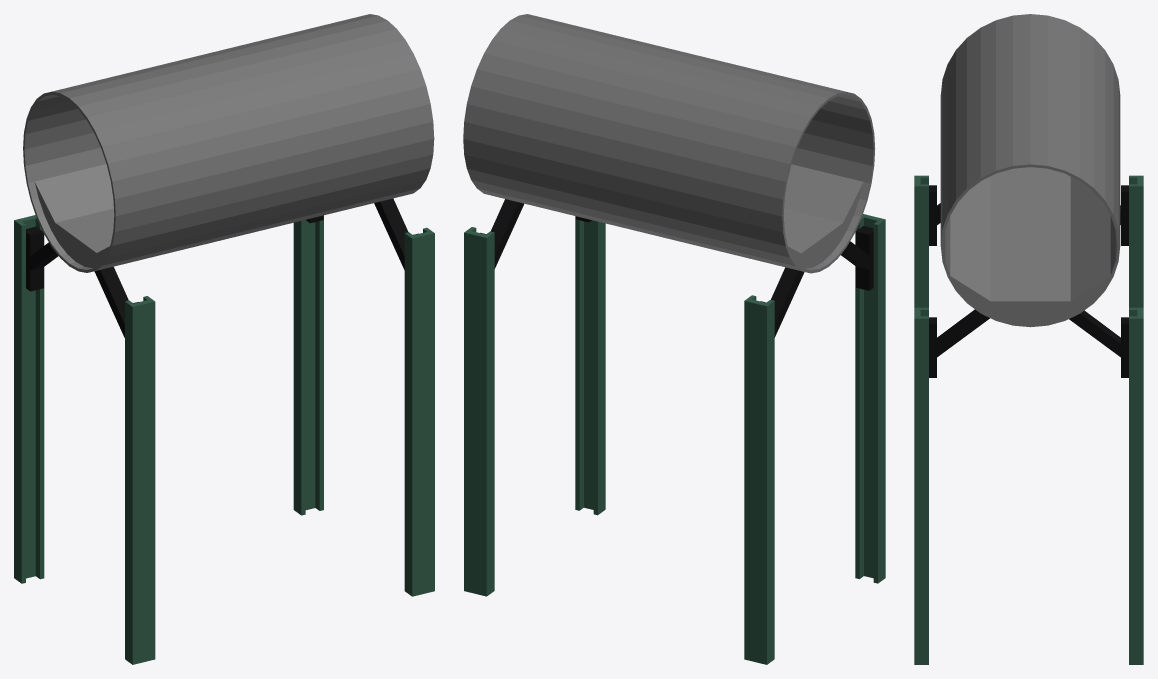
Rendered from LaunchTube_Slee_Lift.glb.
3 renders of one model, left to right at view 1: azimuth 30°, elevation 25°; view 2: azimuth 150°, elevation 25°; view 3: azimuth 270°, elevation 25°, orthographic. The views are drawn at different scales.
Parts seen in each view (by area): view 1: LaunchTube.Top.001, LiftStand.006, LaunchTube_Bot.001, LiftPoot.013, LiftPoot.012; view 2: LaunchTube.Top.001, LiftStand.006, LaunchTube_Bot.001, LiftPoot.013, LiftPoot.012; view 3: LaunchTube.Top.001, LaunchTube_Bot.001, LiftStand.006, LiftPoot.013, LiftPoot.012.
Part boxes in pixels (x1,y1,x2,y2): LaunchTube.Top.001: [23, 14, 434, 231]; LiftStand.006: [14, 215, 434, 664]; LaunchTube_Bot.001: [24, 147, 433, 272]; LiftPoot.013: [30, 198, 408, 337]; LiftPoot.012: [26, 215, 418, 303]; LaunchTube.Top.001: [463, 14, 875, 232]; LiftStand.006: [464, 214, 885, 664]; LaunchTube_Bot.001: [464, 148, 874, 273]; LiftPoot.013: [491, 199, 869, 337]; LiftPoot.012: [480, 216, 873, 302]; LaunchTube.Top.001: [940, 14, 1120, 261]; LaunchTube_Bot.001: [942, 167, 1118, 327]; LiftStand.006: [914, 175, 1143, 664]; LiftPoot.013: [936, 203, 1121, 357]; LiftPoot.012: [929, 185, 1128, 377].
Size of the model in its own units: 11.88 by 18.66 by 7.66.
